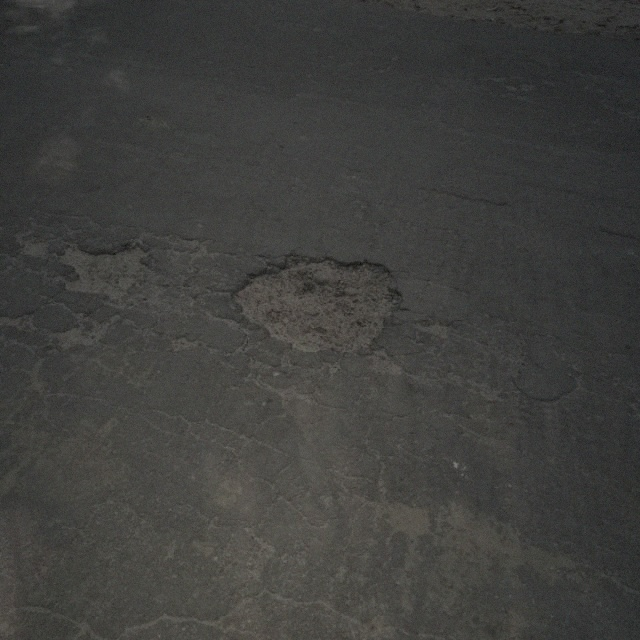pothole: (228, 250, 402, 356), (55, 236, 153, 298)
